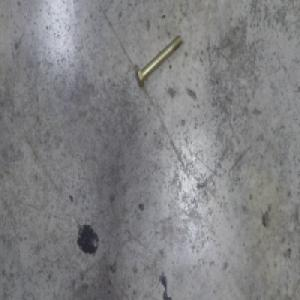Bolt: (133, 34, 183, 88)
